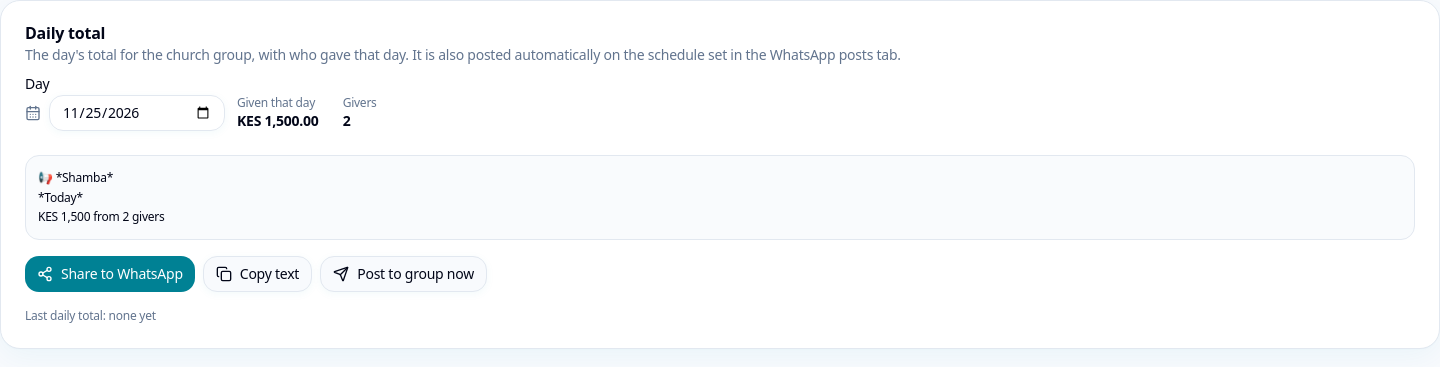
it: DailyTotalCard › a past day can be chosen
This screenshot has width=1440, height=367.
Expected: the text "📢 *Shamba* *Today* KES 1,500 from 2 givers" is shown, [25, 155, 1415, 240]
Step 1. Type "2026-11-02" into the date field labelled "Day" → coordinates (137, 113), box [49, 95, 225, 131]
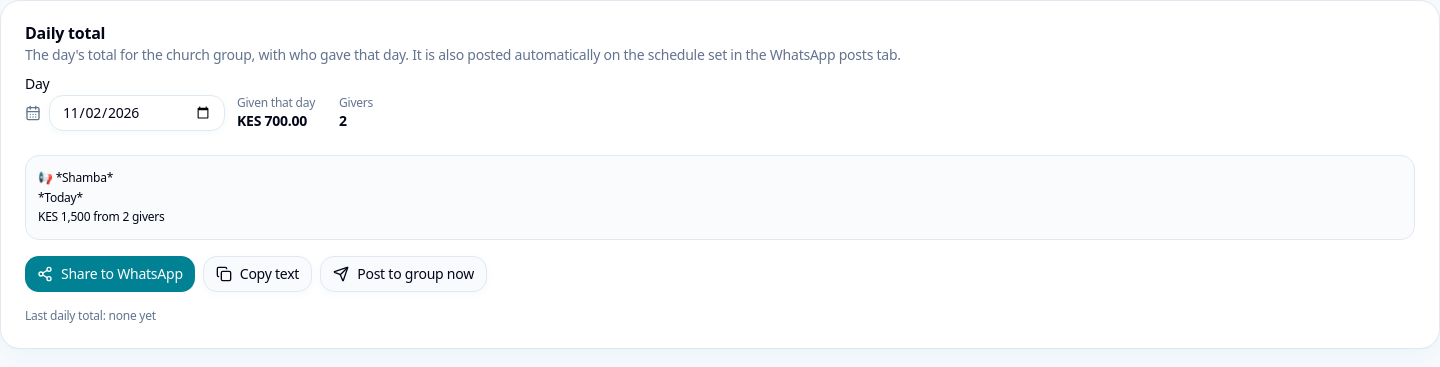
Result: the text with test id "daily-total-amount" reads "KES 700.00" at [237, 111, 307, 130]
